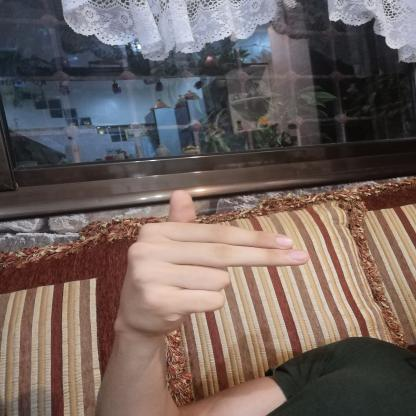GHAYN: (102, 183, 322, 341)
